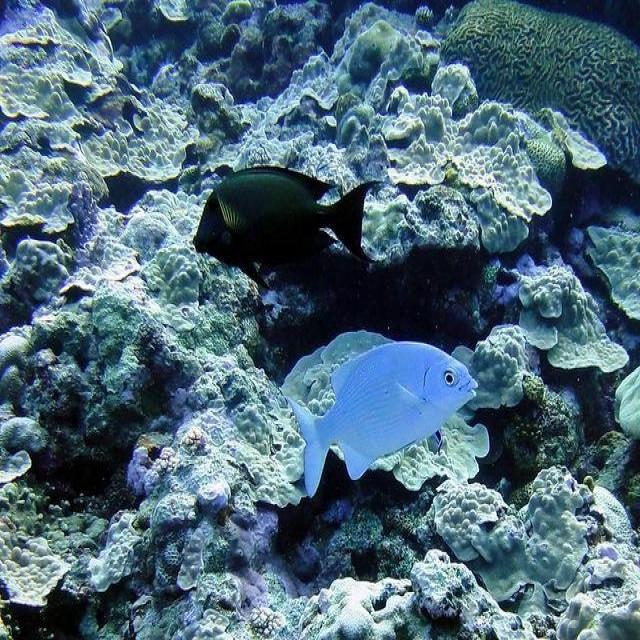fish: (287, 342, 479, 501), (191, 164, 385, 286)
